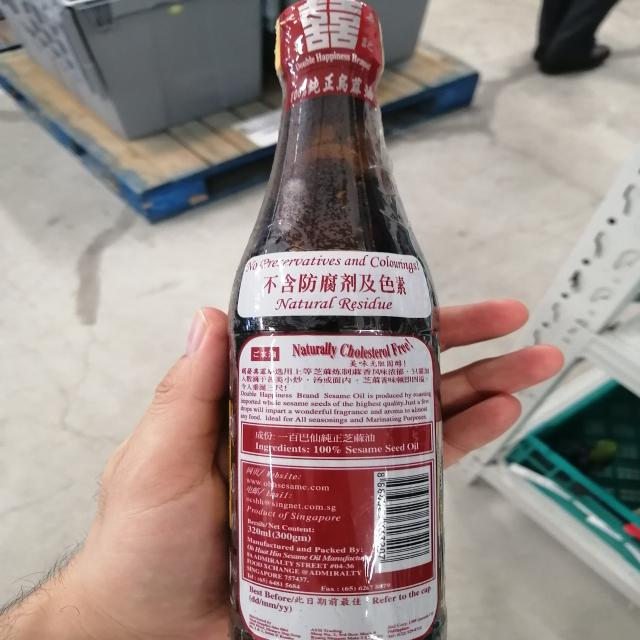object_name: (232, 11, 436, 640)
